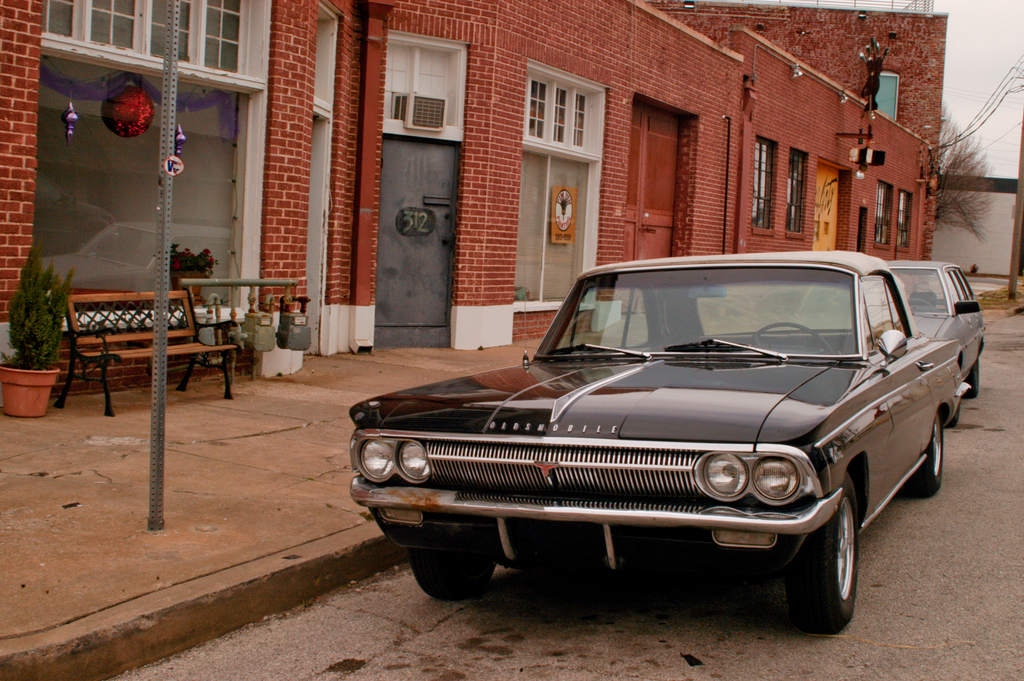Car: (353, 251, 976, 633), (794, 260, 987, 397)
